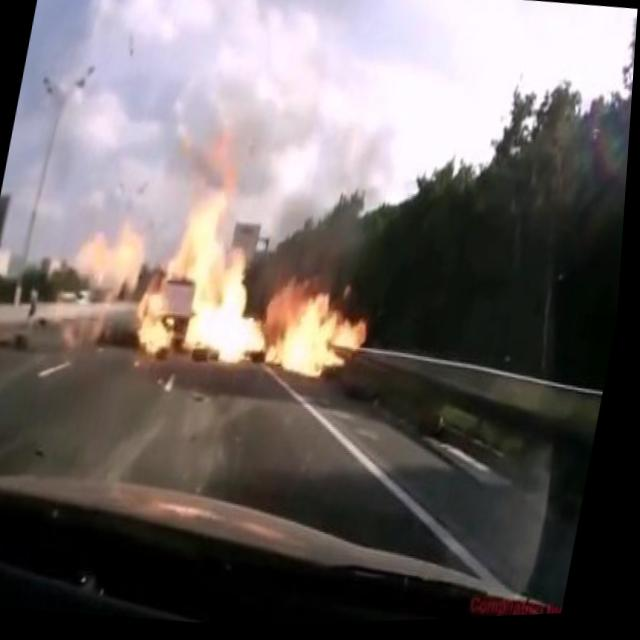fire: (126, 144, 298, 392), (257, 267, 385, 401), (65, 213, 153, 316)
